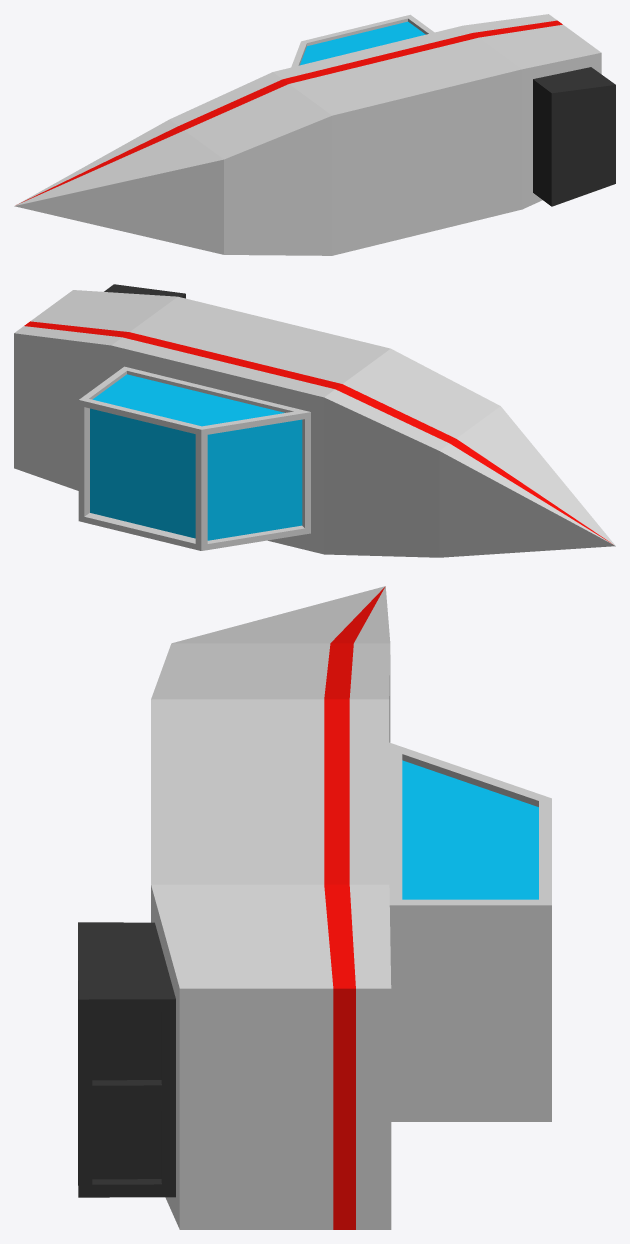
The model's file is Boat.fbx.
3 views of the same model, one above another, from view 1: azimuth 30°, elevation 25°; view 2: azimuth 150°, elevation 25°; view 3: azimuth 270°, elevation 25° (orthographic). The views are drawn at different scales.
Parts seen in each view (by area): view 1: Boat; view 2: Boat; view 3: Boat.
Boxes of the visible parts, x1,y1,x2,y2 form: Boat: [14, 14, 615, 255]; Boat: [14, 284, 615, 557]; Boat: [78, 586, 551, 1229].
Size of the model in its own units: 103890 by 25969 by 39778.
